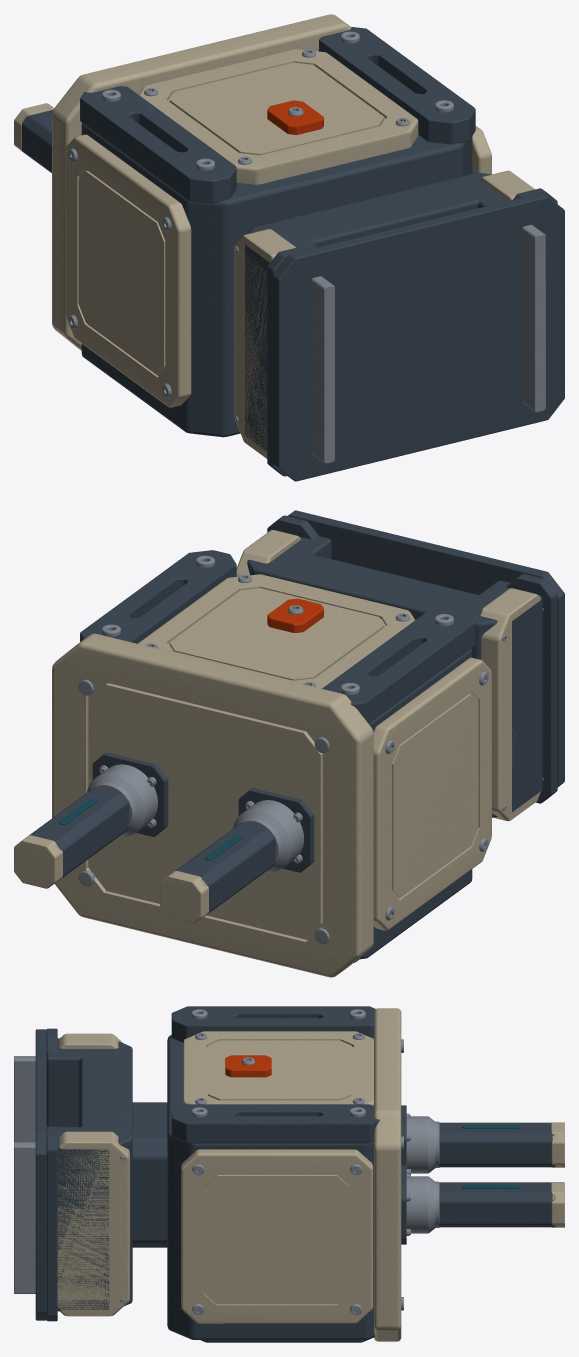
The model's file is CommunicationReceiver.fbx.
3 views of the same model, one above another, from view 1: azimuth 30°, elevation 25°; view 2: azimuth 150°, elevation 25°; view 3: azimuth 270°, elevation 25° (orthographic). The views are drawn at different scales.
Visible parts, largest first — view 1: adapter_WheeledCarrier_top, side_service_cover, receiver_shell, front_service_cover, mount_base_arch, roof_armour, front_reinforcement, front_reinforcement.001, mount_end_guard, adapter_WheeledCarrier_edge_foot.001, adapter_WheeledCarrier_edge_foot, mount_sole (+4 smaller); view 2: roof_armour, side_service_cover, front_service_cover, mount_base_arch, adapter_WheeledCarrier_top, front_reinforcement, mount_end_guard, front_reinforcement.001, fixed_antenna, fixed_antenna.001, mount_sole, receiver_shell (+9 smaller); view 3: side_service_cover.001, mount_base_arch, front_service_cover, mount_end_guard.001, roof_armour, receiver_shell, front_reinforcement.001, fixed_neck, front_reinforcement, fixed_antenna, fixed_antenna.001, adapter_WheeledCarrier_top (+11 smaller).
Part boxes in pixels (bbox=[...]): adapter_WheeledCarrier_top: bbox=[273, 193, 564, 481]; side_service_cover: bbox=[65, 134, 191, 407]; receiver_shell: bbox=[81, 123, 472, 436]; front_service_cover: bbox=[138, 49, 418, 184]; mount_base_arch: bbox=[245, 172, 507, 451]; roof_armour: bbox=[52, 14, 351, 350]; front_reinforcement: bbox=[80, 86, 236, 203]; front_reinforcement.001: bbox=[319, 27, 475, 144]; mount_end_guard: bbox=[234, 229, 295, 458]; adapter_WheeledCarrier_edge_foot.001: bbox=[522, 224, 545, 412]; adapter_WheeledCarrier_edge_foot: bbox=[311, 276, 334, 463]; mount_sole: bbox=[267, 246, 306, 476]; roof_armour: bbox=[52, 633, 373, 977]; side_service_cover: bbox=[373, 657, 491, 930]; front_service_cover: bbox=[138, 574, 414, 688]; mount_base_arch: bbox=[247, 536, 542, 817]; adapter_WheeledCarrier_top: bbox=[288, 510, 564, 787]; front_reinforcement: bbox=[322, 608, 475, 723]; mount_end_guard: bbox=[480, 588, 540, 821]; front_reinforcement.001: bbox=[80, 550, 236, 643]; fixed_antenna: bbox=[175, 822, 275, 917]; fixed_antenna.001: bbox=[29, 786, 129, 881]; mount_sole: bbox=[506, 573, 557, 803]; receiver_shell: bbox=[358, 648, 472, 959]; side_service_cover.001: bbox=[181, 1149, 373, 1323]; mount_base_arch: bbox=[46, 1038, 132, 1311]; front_service_cover: bbox=[183, 1031, 373, 1105]; mount_end_guard.001: bbox=[57, 1131, 129, 1316]; roof_armour: bbox=[374, 1008, 401, 1341]; receiver_shell: bbox=[167, 1035, 374, 1339]; front_reinforcement.001: bbox=[171, 1104, 379, 1143]; fixed_neck: bbox=[132, 1102, 167, 1247]; front_reinforcement: bbox=[171, 1006, 375, 1042]; fixed_antenna: bbox=[439, 1122, 555, 1167]; fixed_antenna.001: bbox=[439, 1182, 555, 1227]; adapter_WheeledCarrier_top: bbox=[35, 1029, 46, 1320].
Size of the model in its own units: 22.8 by 18.96 by 40.4.
